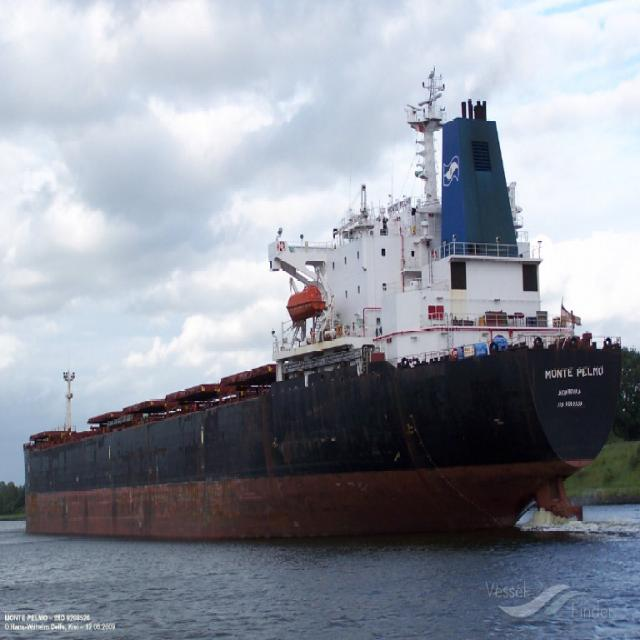OCR: (543, 364, 615, 414)
